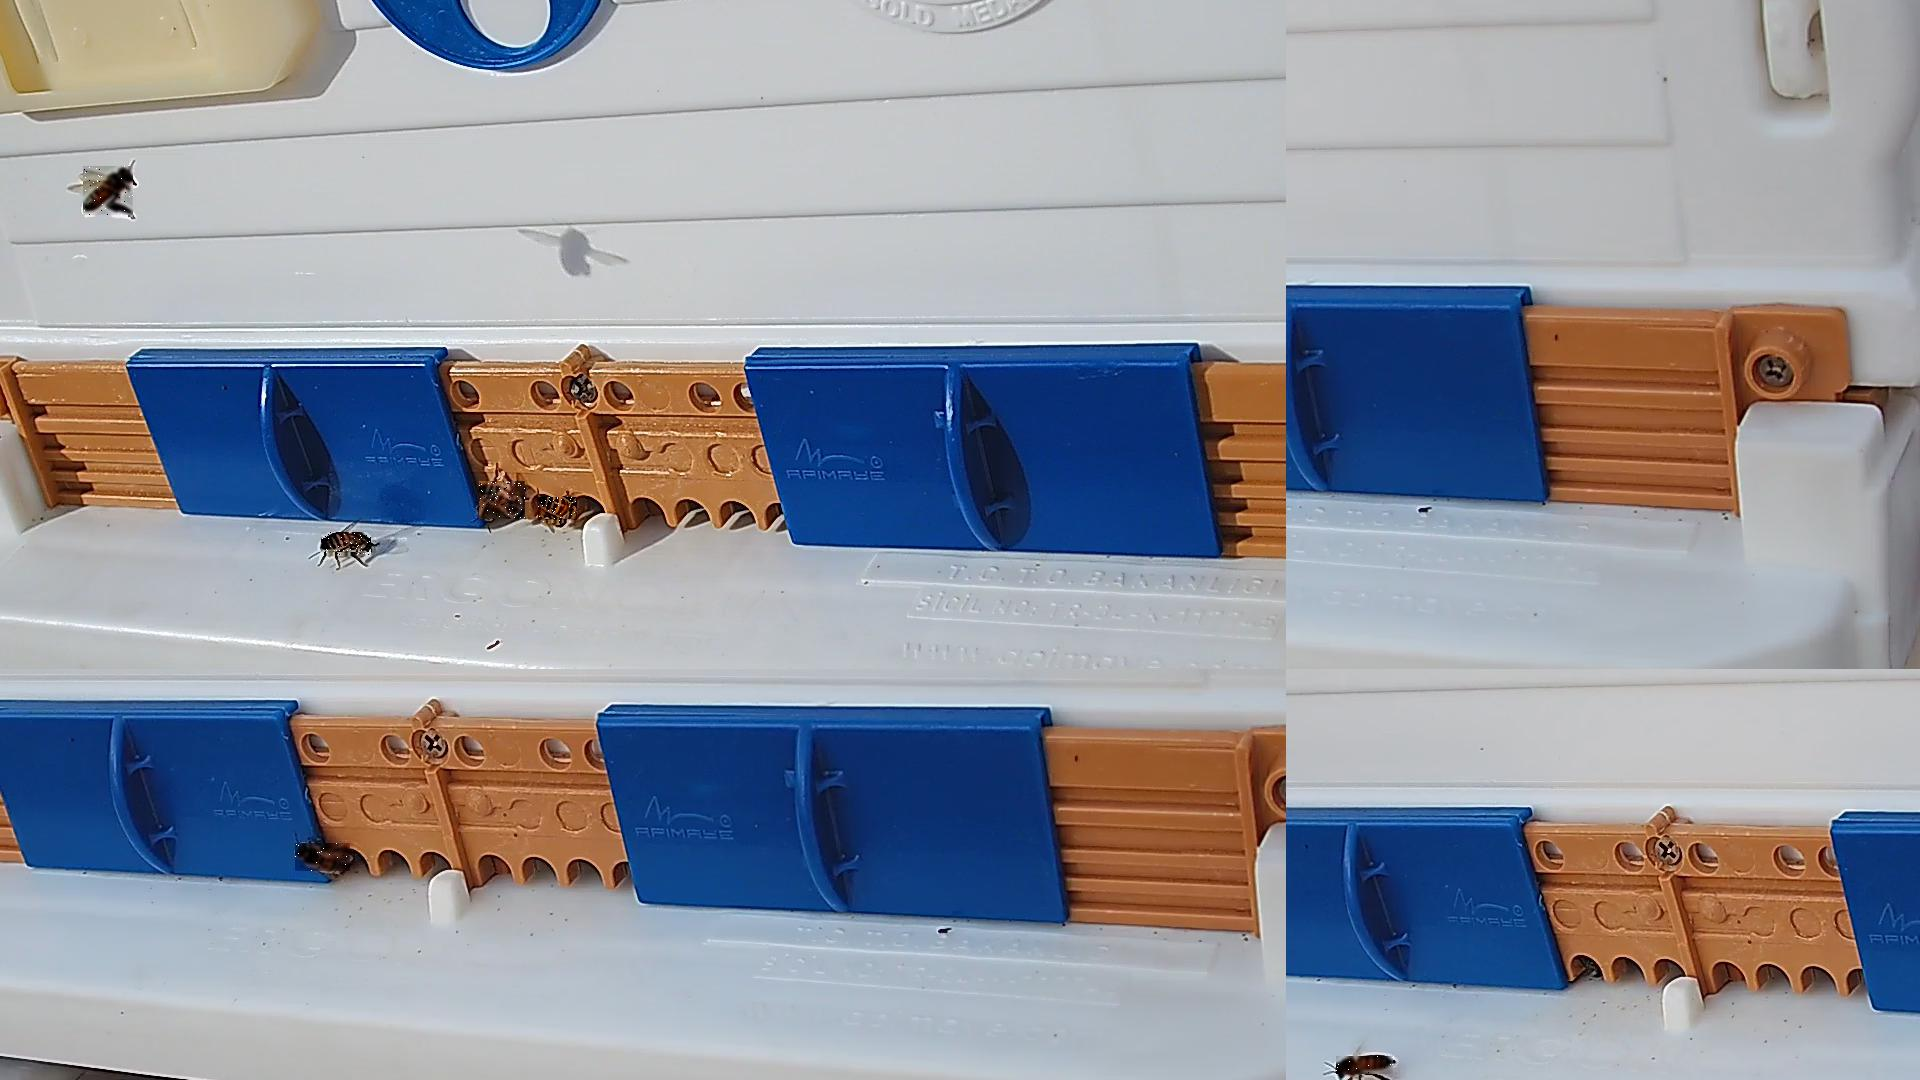bee: (83, 167, 134, 218), (479, 481, 526, 520), (295, 843, 351, 872), (321, 533, 372, 557), (1337, 1056, 1396, 1075), (538, 498, 578, 524)
